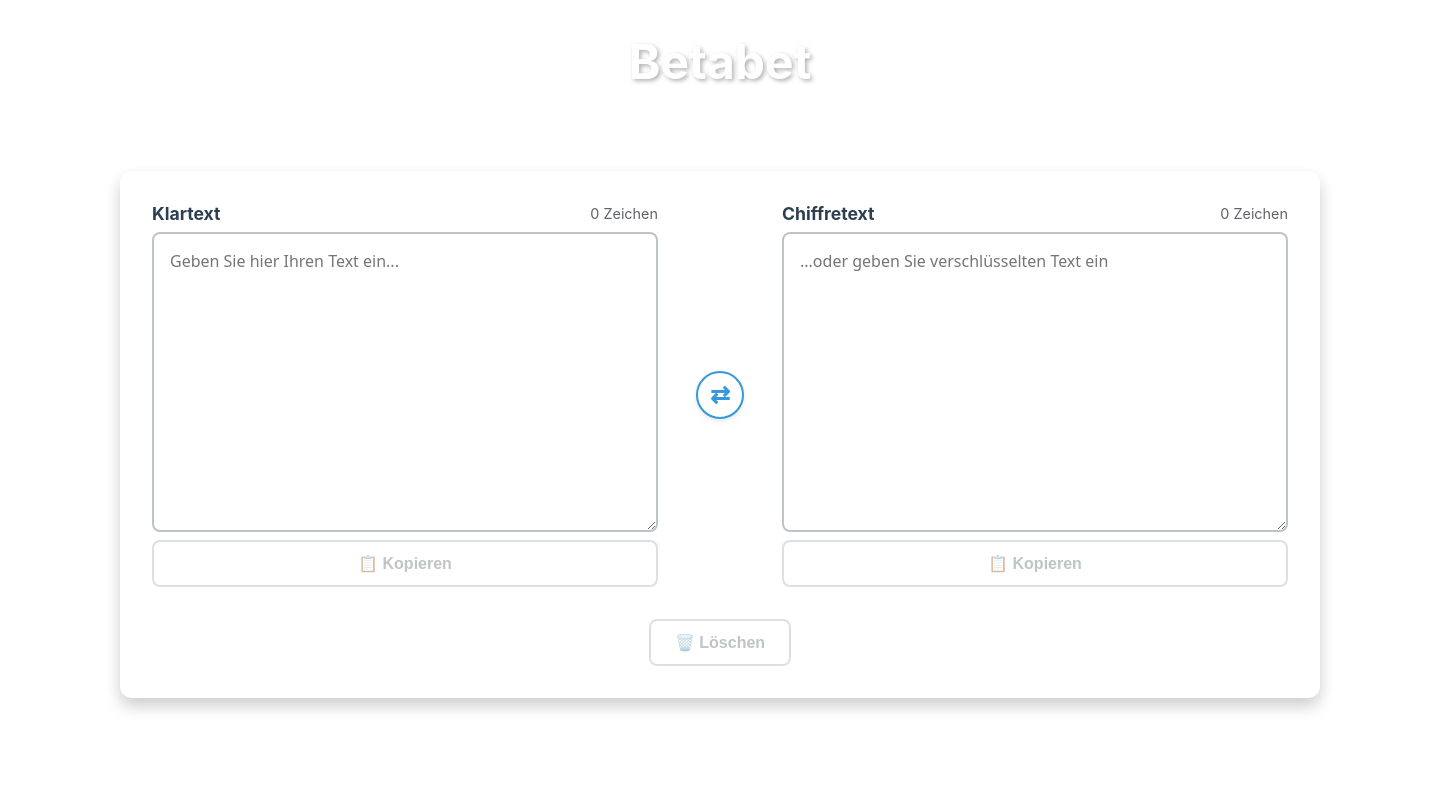
CipherTranslator › Swap Functionality › should swap text fields when swap button is clicked
The width and height of the screenshot is (1440, 810).
Type "HELLO" into the text box with test id "plaintext-input" at (405, 382), box [152, 232, 658, 532]
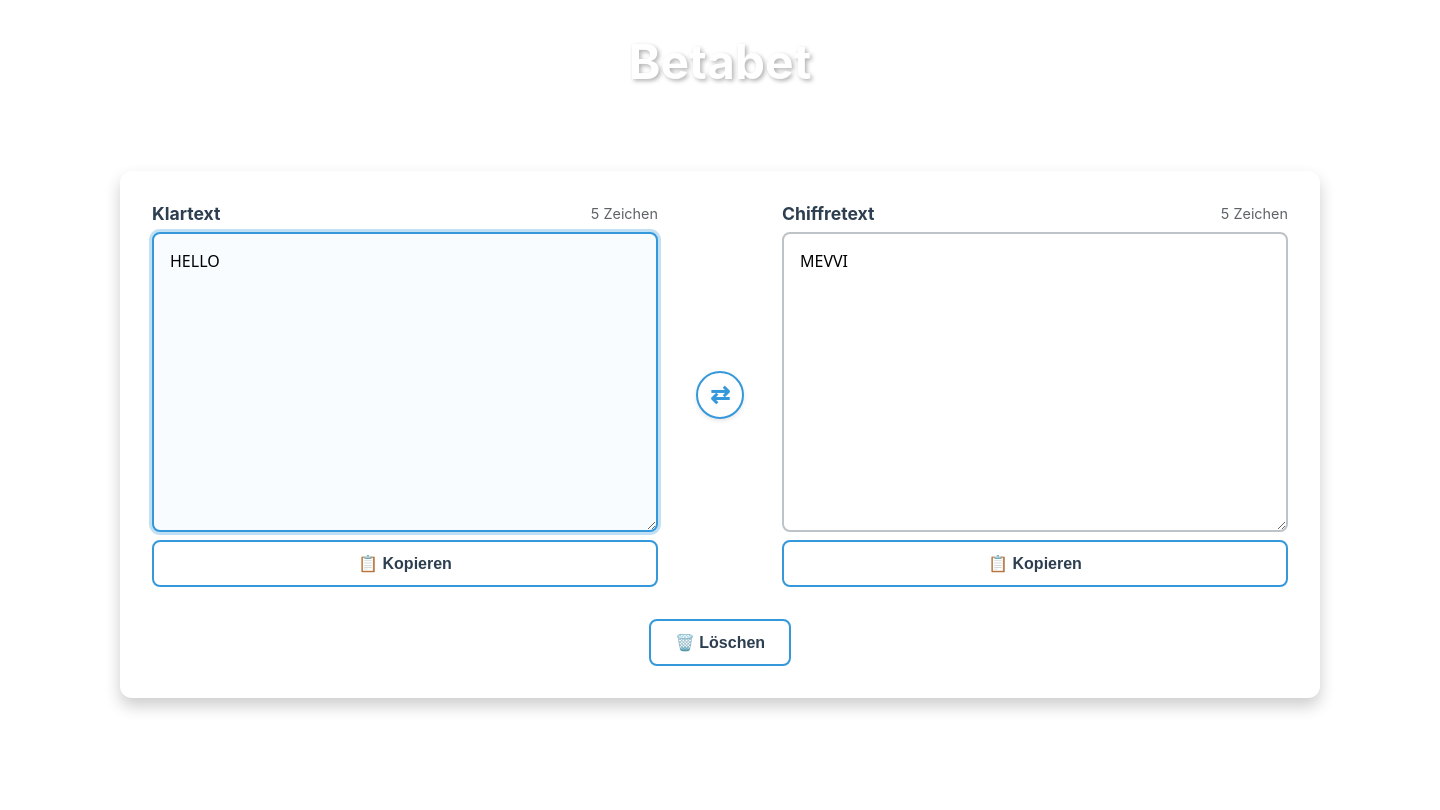
Now the text box with test id "ciphertext-input" holds "MEVVI", box [782, 232, 1288, 532]
Click the button with test id "swap-button" at (720, 395), box [696, 371, 744, 419]
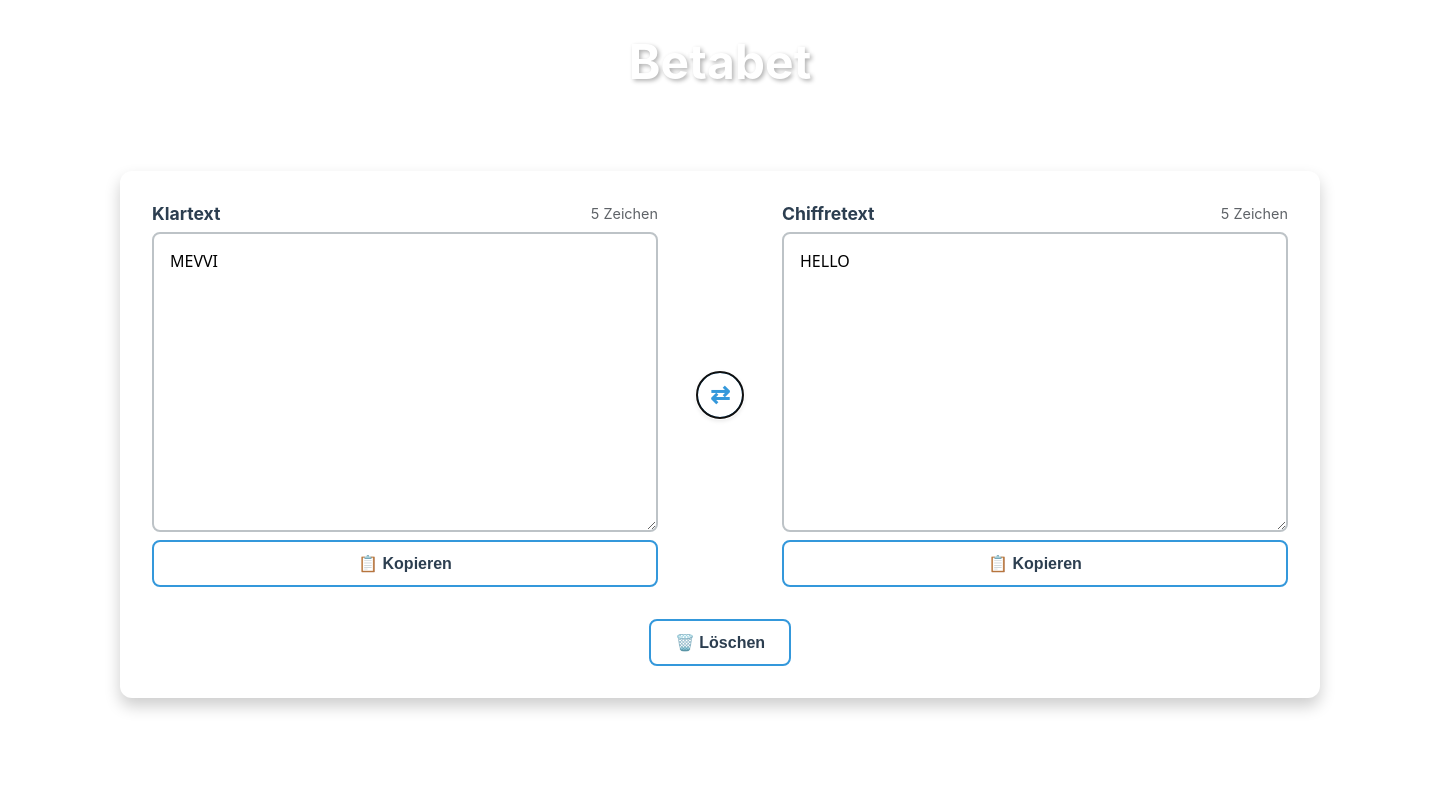
Now the text box with test id "plaintext-input" holds "MEVVI", box [152, 232, 658, 532]
Now the text box with test id "ciphertext-input" holds "HELLO", box [782, 232, 1288, 532]
